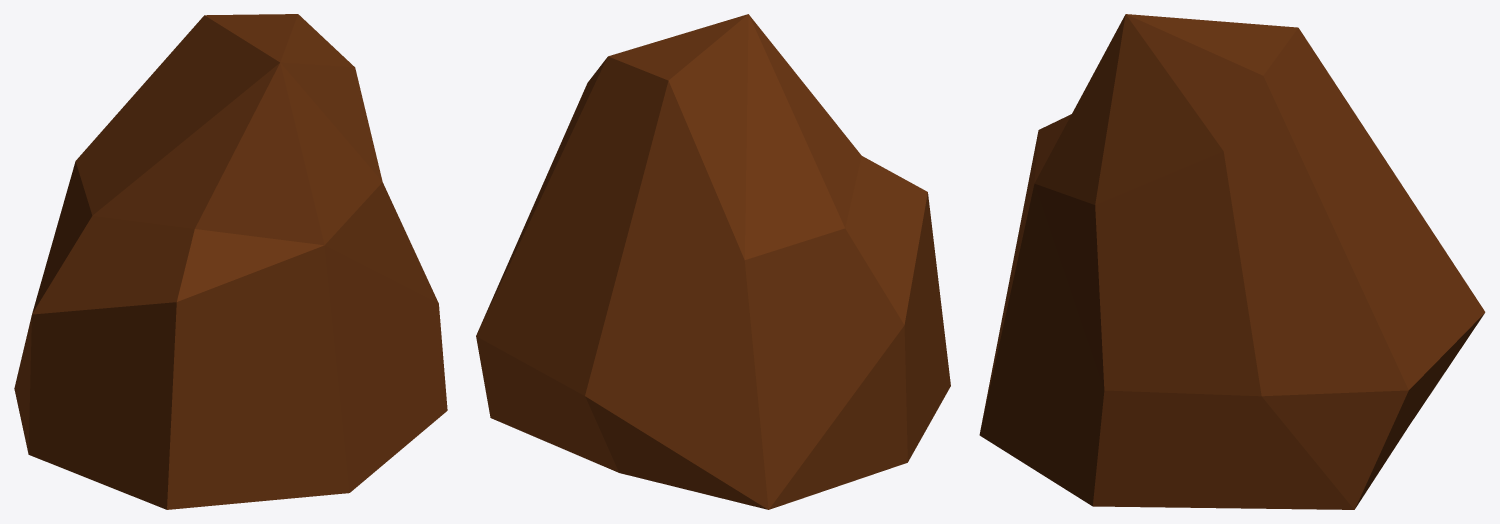
The model's file is roca_5.FBX.
3 renders of one model, left to right at view 1: azimuth 30°, elevation 25°; view 2: azimuth 150°, elevation 25°; view 3: azimuth 270°, elevation 25°, orthographic. The views are drawn at different scales.
Parts seen in each view (by area): view 1: Sphere001; view 2: Sphere001; view 3: Sphere001.
Part boxes in pixels (x1,y1,x2,y2): Sphere001: (14,14,447,509); Sphere001: (476,14,950,509); Sphere001: (979,14,1485,509).
Size of the model in its own units: 6.23 by 6.25 by 6.78.
